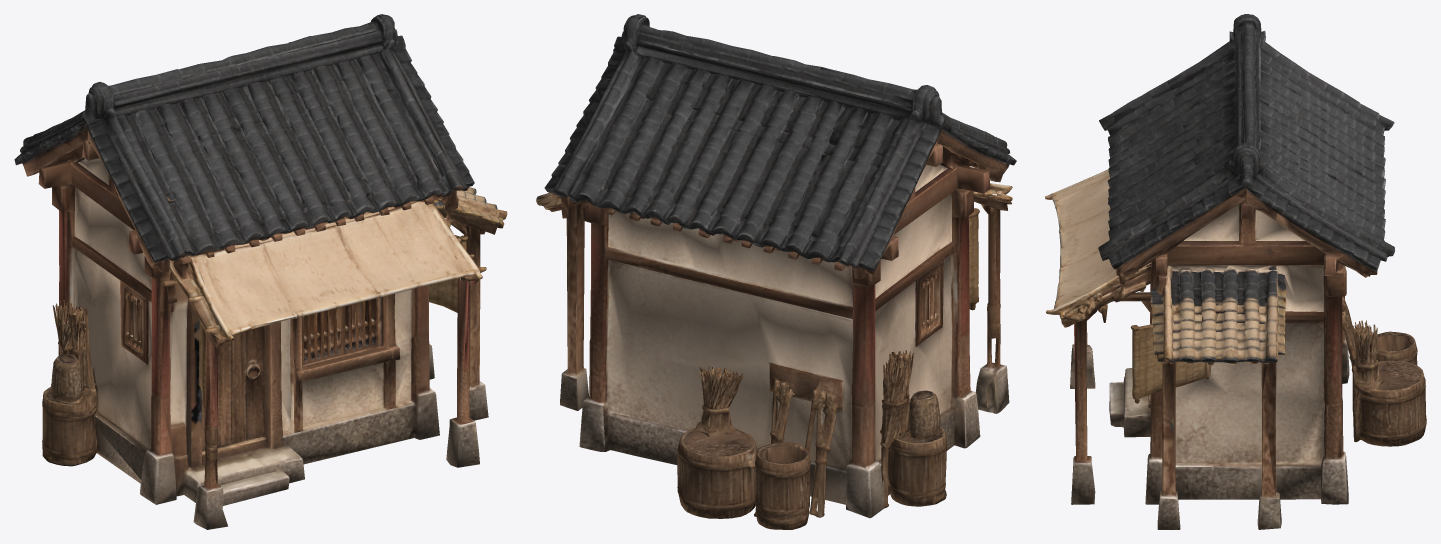
The model's file is 02_Narrow_One_Bay_House_LOD1.fbx.
The picture shows the model from 3 angles, left to right: view 1: azimuth 30°, elevation 25°; view 2: azimuth 150°, elevation 25°; view 3: azimuth 270°, elevation 25°; orthographic projection. The views are drawn at different scales.
Visible parts, largest first — view 1: 02_Narrow_One_Bay_House_L1; view 2: 02_Narrow_One_Bay_House_L1; view 3: 02_Narrow_One_Bay_House_L1.
Part boxes in pixels (x1,y1,x2,y2): 02_Narrow_One_Bay_House_L1: [14, 14, 507, 529]; 02_Narrow_One_Bay_House_L1: [536, 14, 1016, 529]; 02_Narrow_One_Bay_House_L1: [1045, 14, 1426, 529].
Bounding box in the file's own units: 5.5 × 5 × 4.81.
